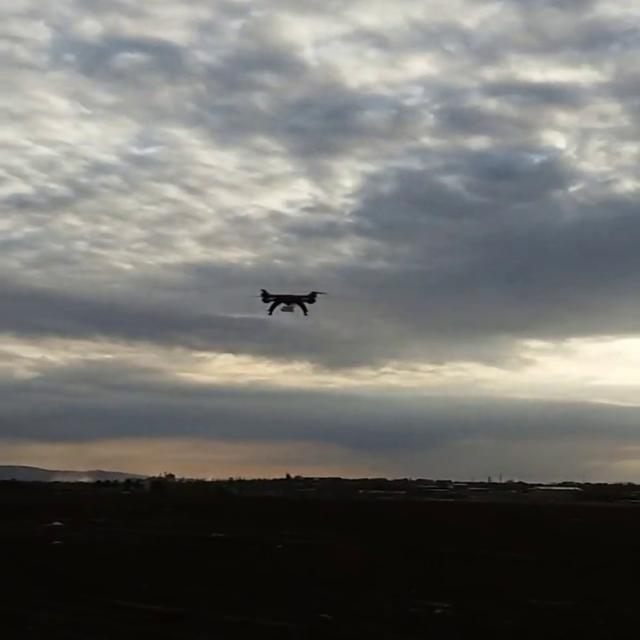drone: (245, 286, 336, 322)
